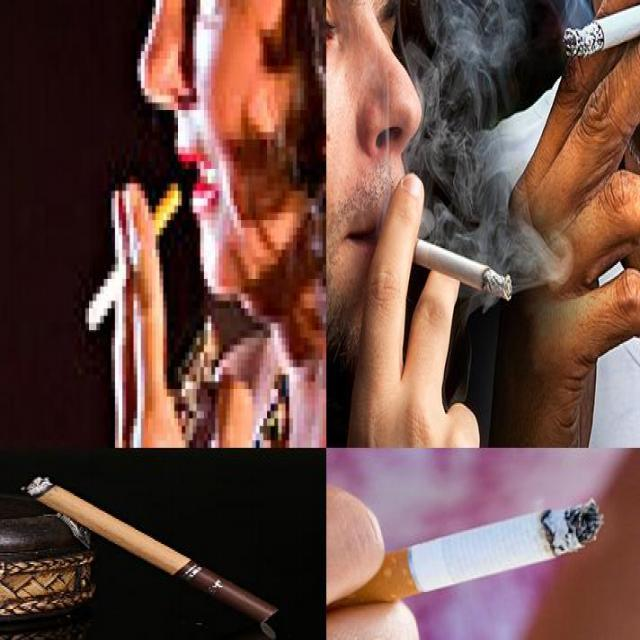smoke: (16, 474, 279, 620), (382, 494, 606, 600), (84, 182, 184, 336), (380, 226, 514, 304), (563, 0, 639, 60)
